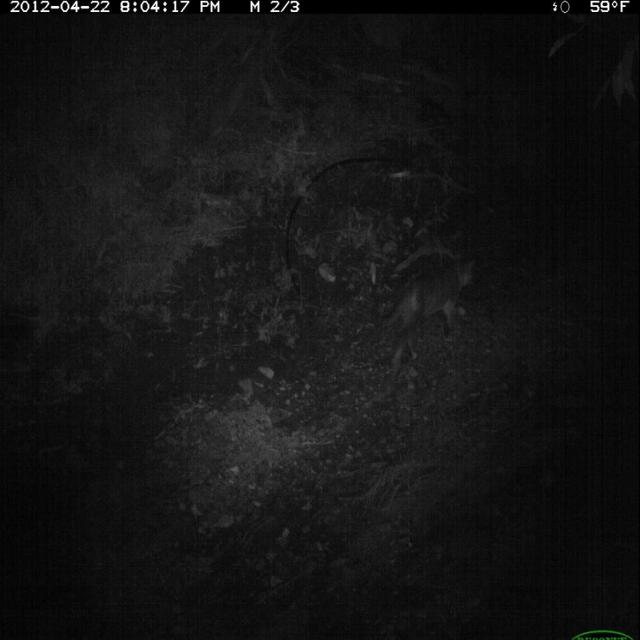cat: (368, 243, 480, 376)
